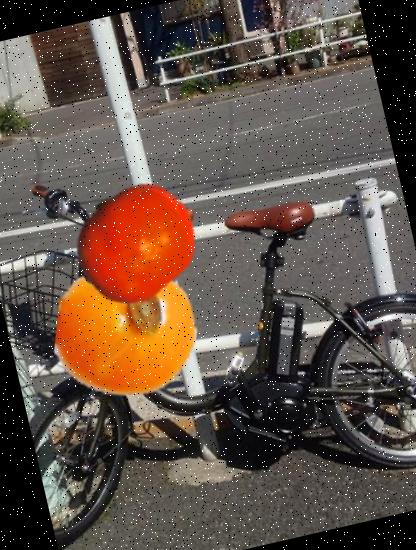Clementine: (62, 169, 210, 317)
Physalis: (43, 245, 211, 412)
